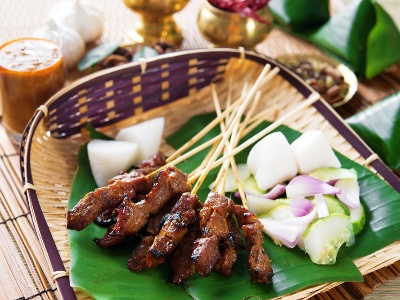sate: (68, 67, 299, 280)
